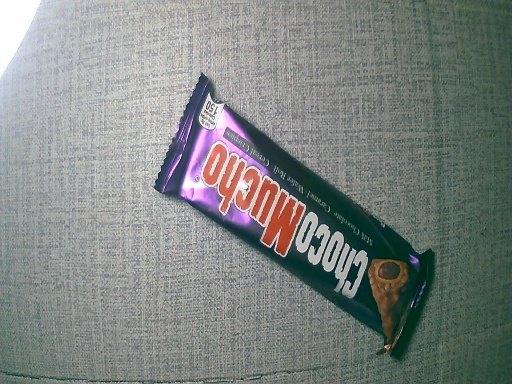plastic: (151, 70, 445, 352)
